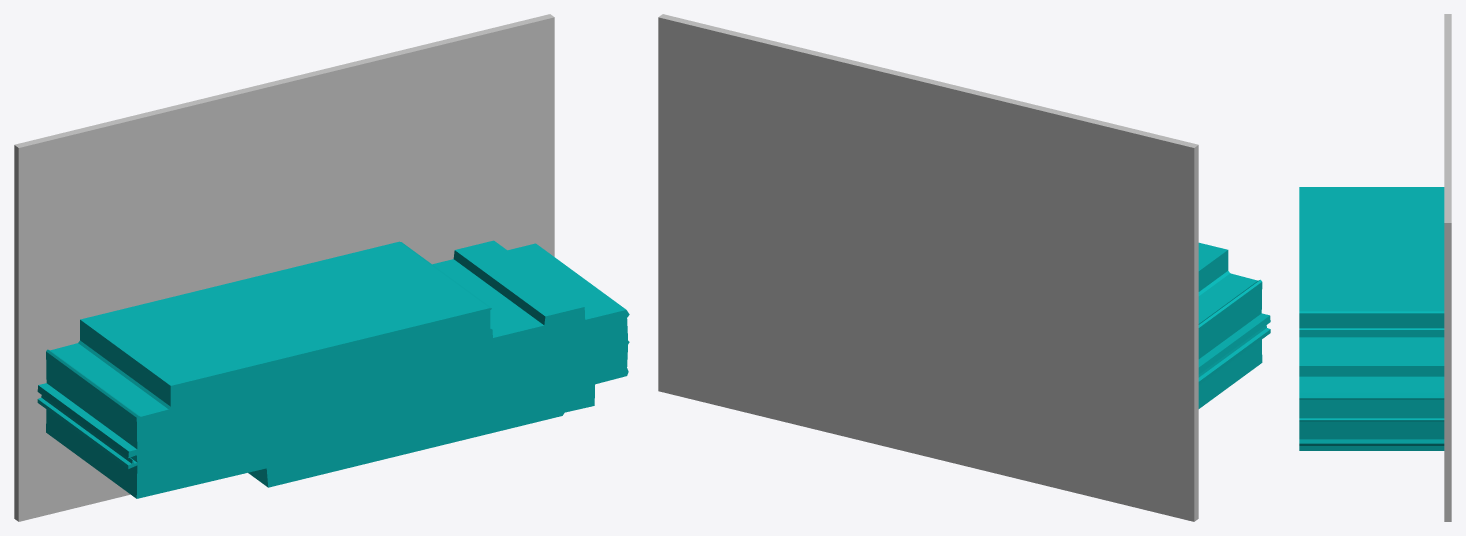
3 views of the same model, side by side, from view 1: azimuth 30°, elevation 25°; view 2: azimuth 150°, elevation 25°; view 3: azimuth 270°, elevation 25° (orthographic). The views are drawn at different scales.
Parts seen in each view (by area): view 1: world; view 2: world; view 3: world.
Part boxes in pixels (bbox=[...]): world: bbox=[14, 14, 629, 521]; world: bbox=[658, 14, 1270, 521]; world: bbox=[1299, 14, 1451, 521].
Bounding box in the file's own units: 10.23 × 6.82 × 3.15.
